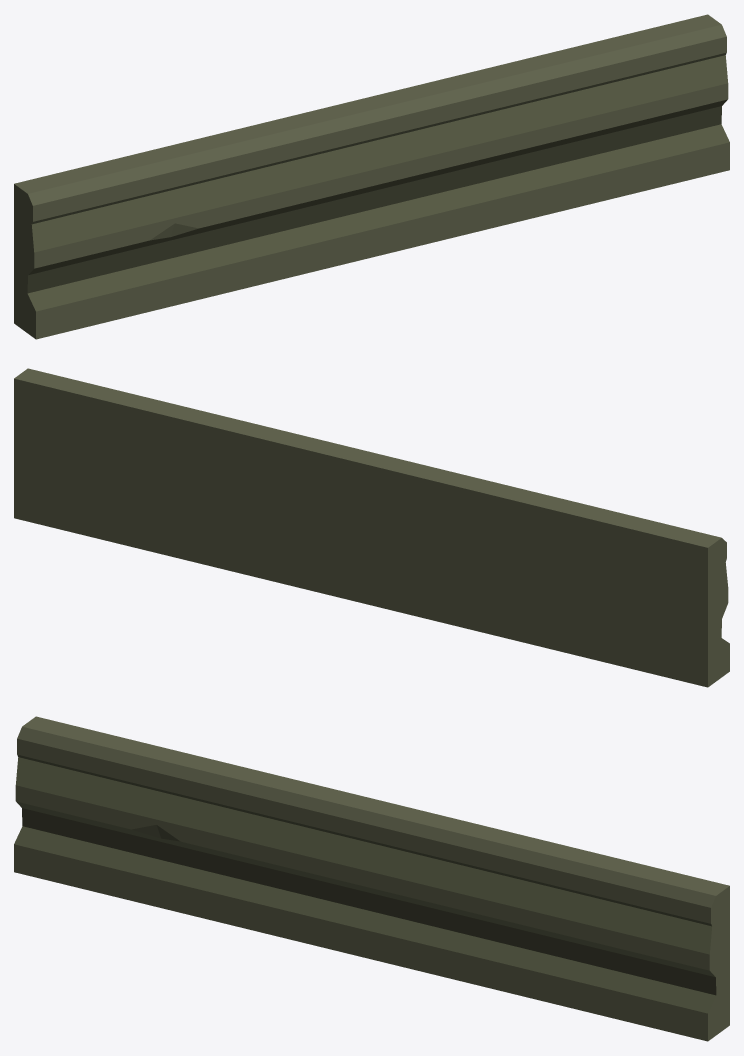
Rendered from SM_Bld_Wall_Trim_01.fbx.
3 views of the same model, one above another, from view 1: azimuth 30°, elevation 25°; view 2: azimuth 150°, elevation 25°; view 3: azimuth 330°, elevation 25° (orthographic).
Parts seen in each view (by area): view 1: SM_Bld_Wall_Trim_01; view 2: SM_Bld_Wall_Trim_01; view 3: SM_Bld_Wall_Trim_01.
Boxes of the visible parts, bbox=[...] form: SM_Bld_Wall_Trim_01: bbox=[14, 14, 729, 339]; SM_Bld_Wall_Trim_01: bbox=[14, 368, 729, 687]; SM_Bld_Wall_Trim_01: bbox=[14, 716, 729, 1041].
Bounding box in the file's own units: 250 × 48.08 × 13.72.
Materials: 1 (1 with a texture image).
